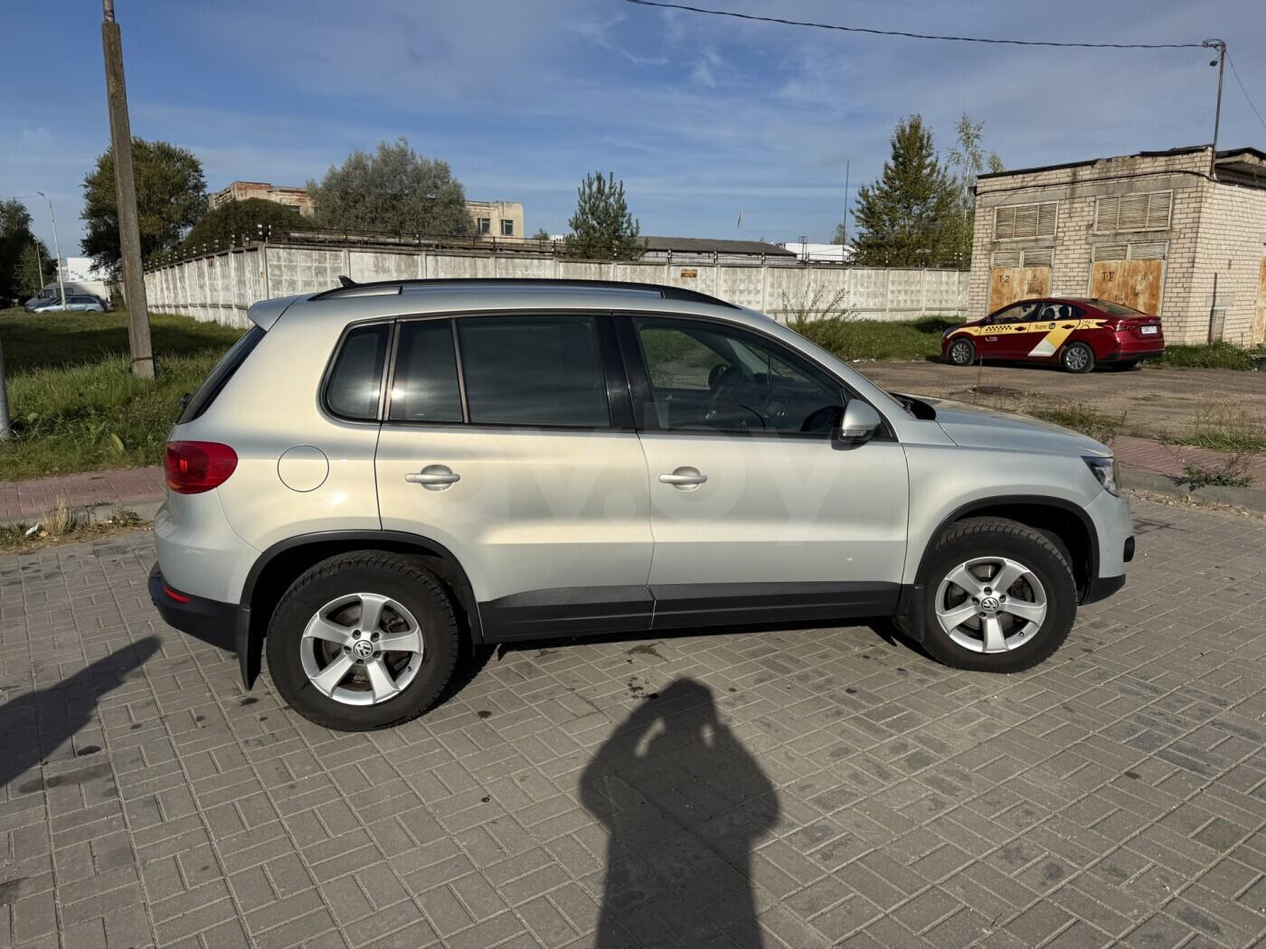Tiguan_2011-2018: (143, 278, 1133, 735)
